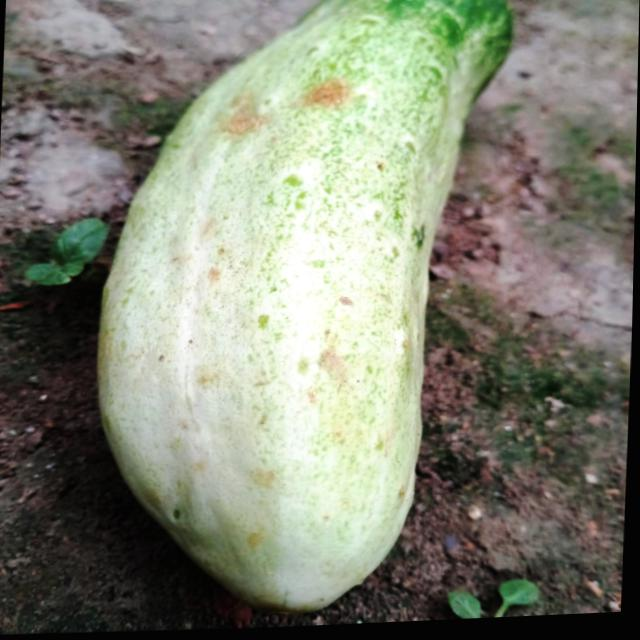Belly-Rot: (223, 73, 353, 151)
